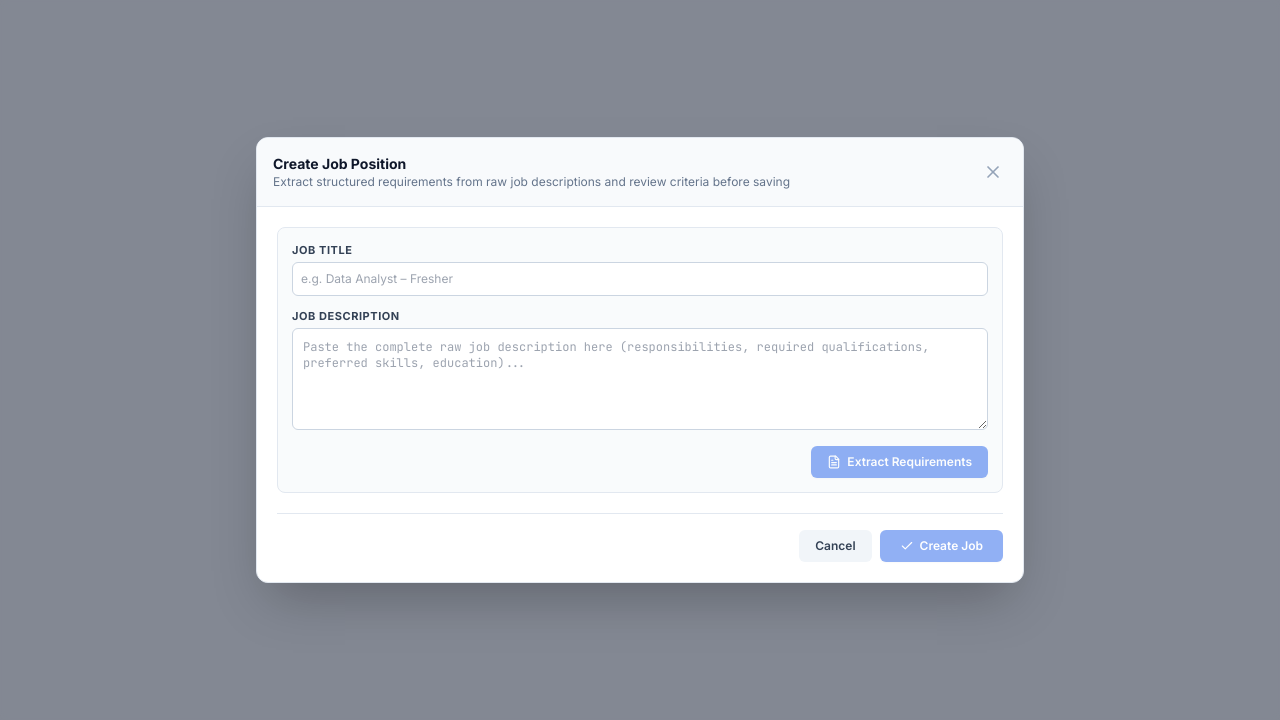
Test case: JobModal Component › displays friendly error message when extraction fails
Replace the text in the text box with placeholder "Paste the complete raw job description" with "Some job description text" at (640, 379), box [292,328,988,430]
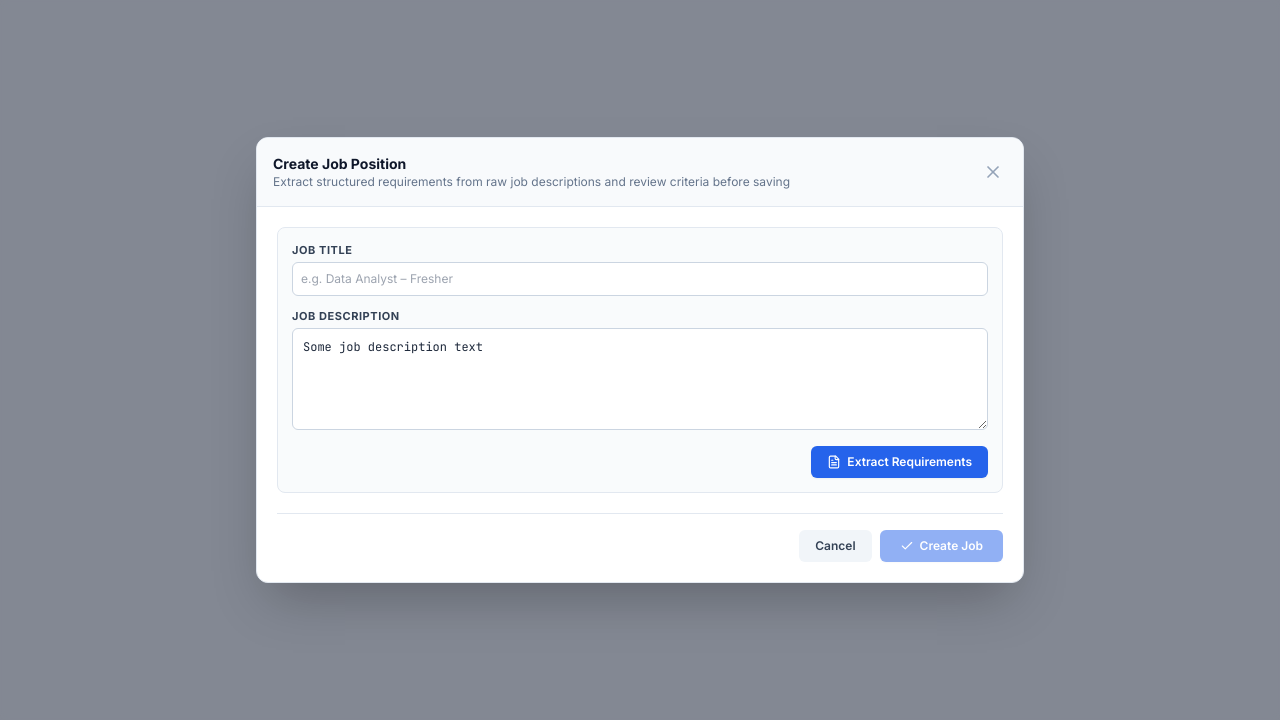
Click the button "Extract Requirements" at (900, 462), box [811,446,988,478]
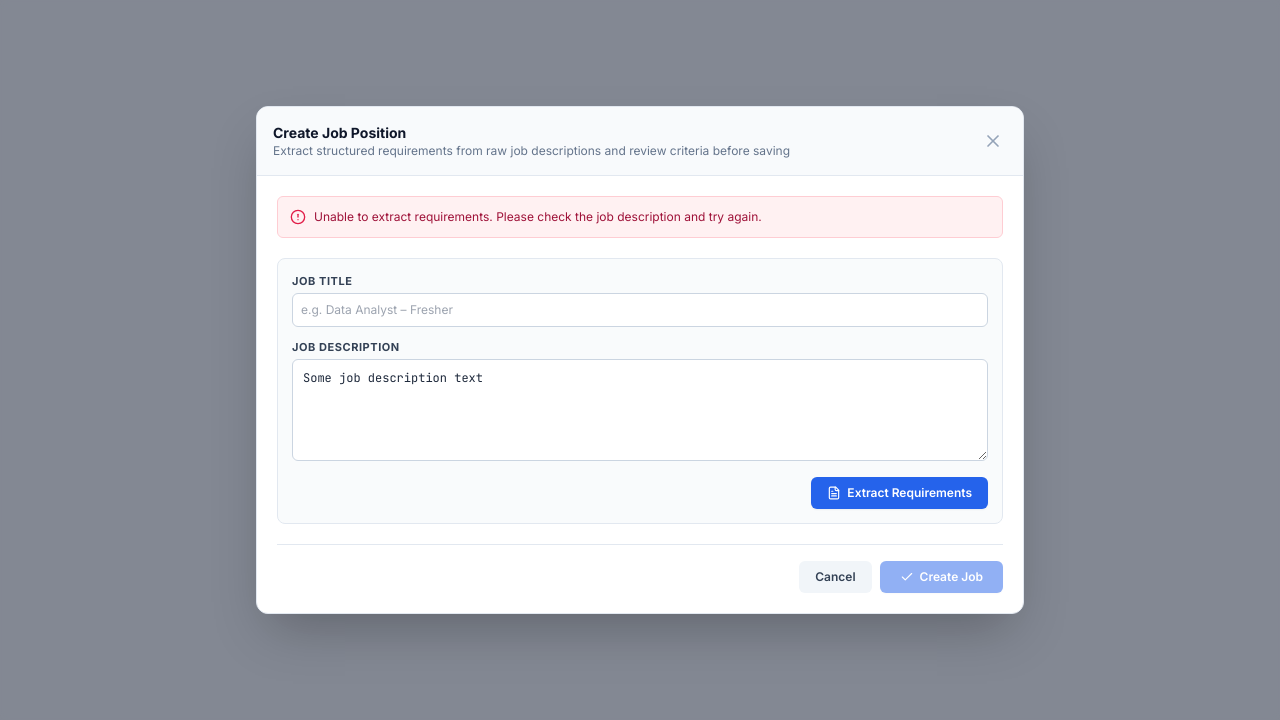
Expected: the text "Unable to extract requirements" is shown, [314,209,762,224]
